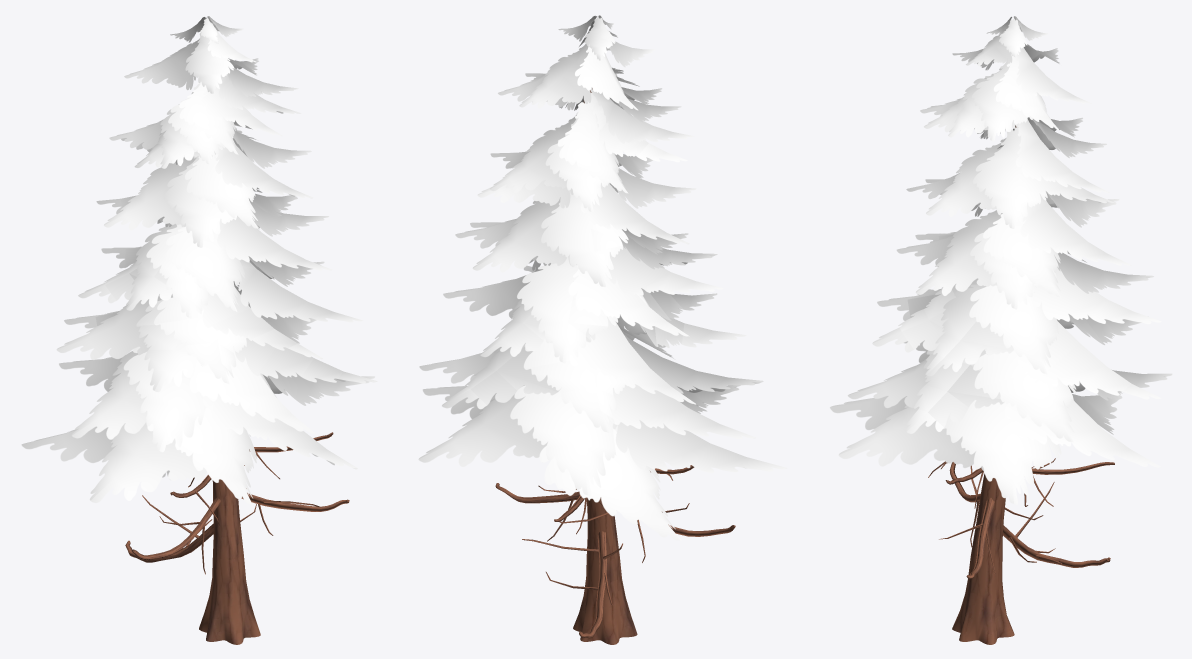
File: pine-4.glb
3 renders of one model, left to right at view 1: azimuth 30°, elevation 25°; view 2: azimuth 150°, elevation 25°; view 3: azimuth 270°, elevation 25°, orthographic. The views are drawn at different scales.
Parts seen in each view (by area): view 1: tree_031; view 2: tree_031; view 3: tree_031.
Part boxes in pixels (x1,y1,x2,y2): tree_031: (21,16,377,644); tree_031: (418,15,787,644); tree_031: (830,16,1172,644).
Bounding box in the file's own units: 5.8 × 10.24 × 5.37.
Materials: 2 (2 with a texture image).
